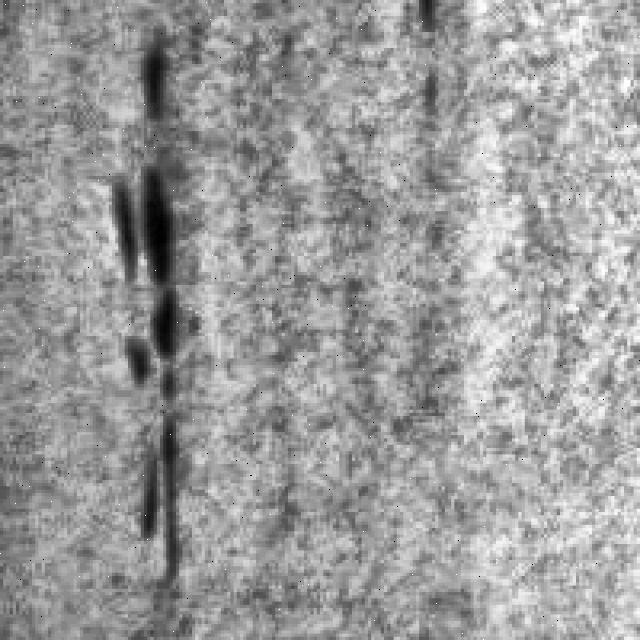Patches: (112, 282, 192, 592), (106, 153, 195, 284), (137, 32, 185, 122)
